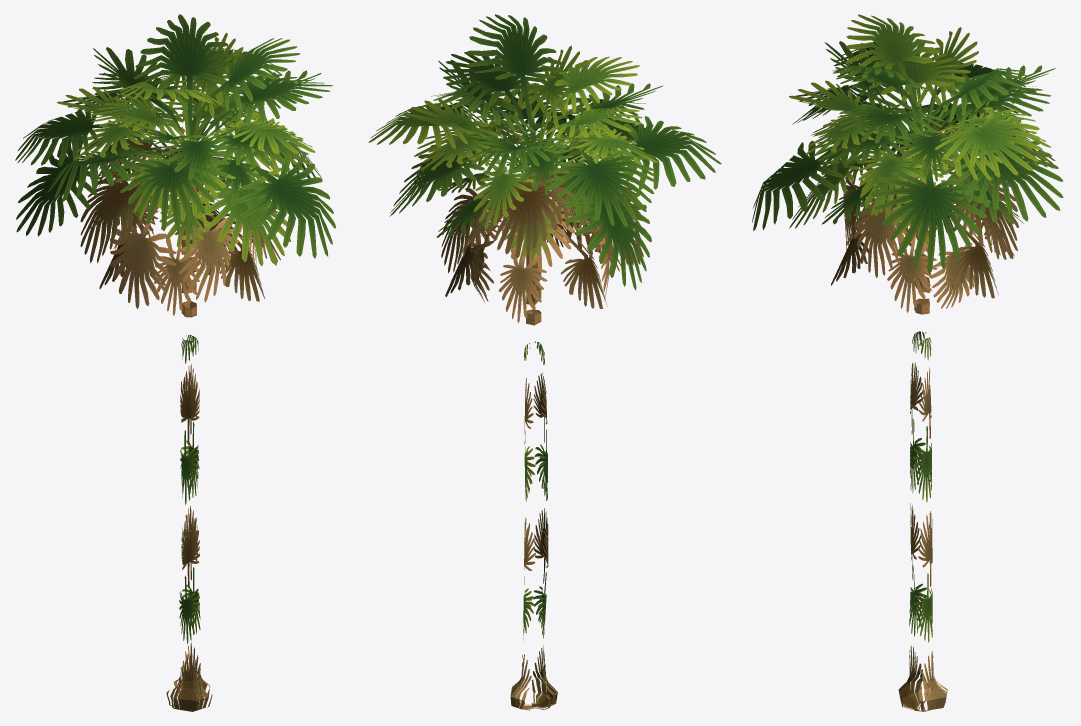
File: SM_Env_Tree_Palm_02.fbx
3 views of the same model, side by side, from view 1: azimuth 30°, elevation 25°; view 2: azimuth 150°, elevation 25°; view 3: azimuth 270°, elevation 25° (orthographic). The views are drawn at different scales.
Parts seen in each view (by area): view 1: SM_Env_Tree_Palm_02_LOD0; view 2: SM_Env_Tree_Palm_02_LOD0; view 3: SM_Env_Tree_Palm_02_LOD0.
Part boxes in pixels (left/top/right/bottom): SM_Env_Tree_Palm_02_LOD0: left=15, top=14, right=335, bottom=711; SM_Env_Tree_Palm_02_LOD0: left=368, top=14, right=721, bottom=710; SM_Env_Tree_Palm_02_LOD0: left=752, top=14, right=1063, bottom=711.
Size of what is drawn, in the model's own units: 716 by 1592 by 675.
